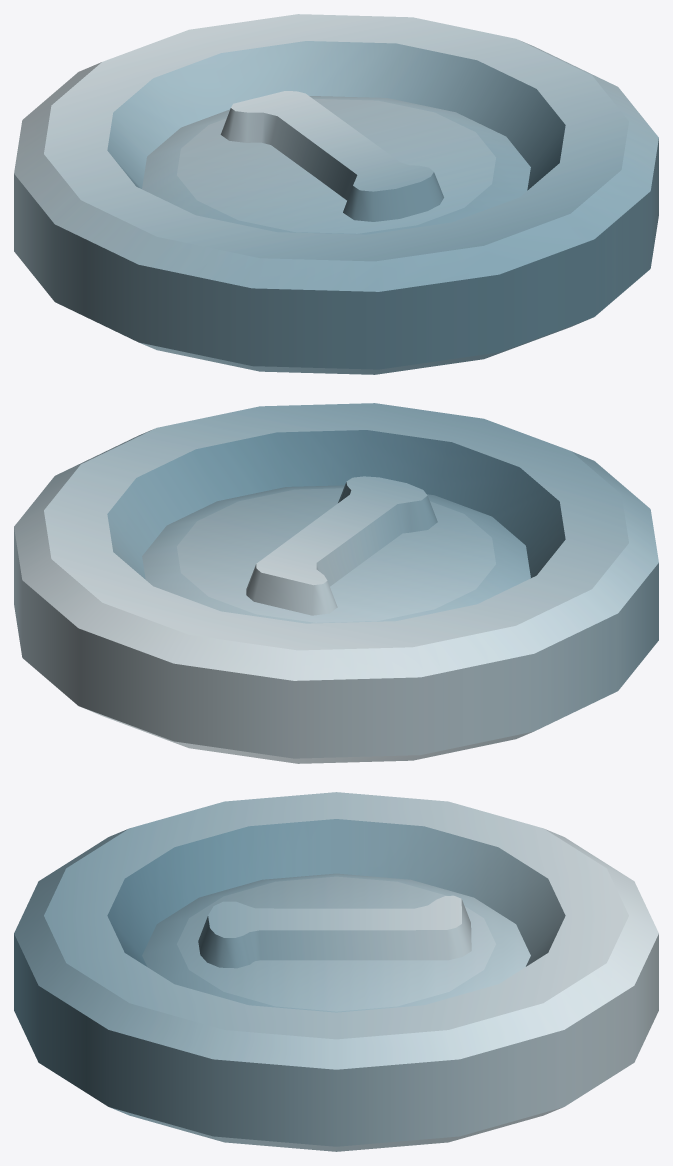
File: coin_1_silver.obj
3 views of the same model, one above another, from view 1: azimuth 30°, elevation 25°; view 2: azimuth 150°, elevation 25°; view 3: azimuth 270°, elevation 25° (orthographic).
Parts seen in each view (by area): view 1: coin_1_silver; view 2: coin_1_silver; view 3: coin_1_silver.
Part boxes in pixels (x1,y1,x2,y2): coin_1_silver: (14,14,658,374); coin_1_silver: (14,403,658,763); coin_1_silver: (14,792,658,1151).
Bounding box in the file's own units: 1.04 × 0.2 × 1.04.
Materials: 1 (1 with a texture image).
